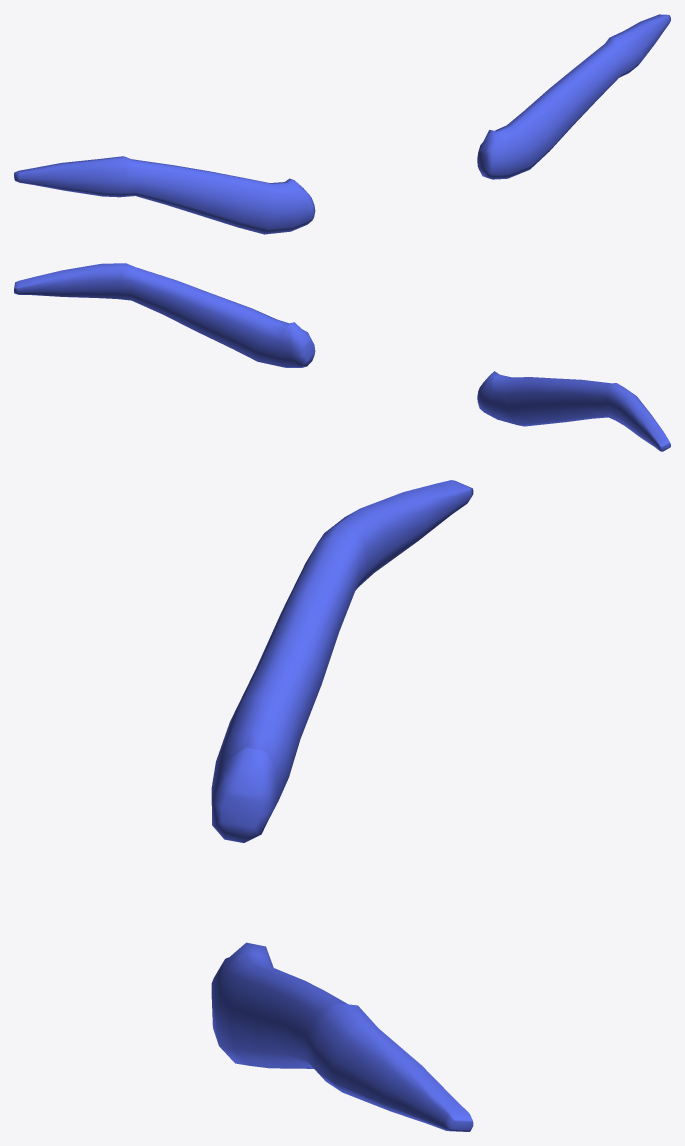
File: Eyebrows_16_03.fbx
3 views of the same model, one above another, from view 1: azimuth 30°, elevation 25°; view 2: azimuth 150°, elevation 25°; view 3: azimuth 270°, elevation 25° (orthographic). The views are drawn at different scales.
Visible parts, largest first — view 1: Eyebrows_16_03; view 2: Eyebrows_16_03; view 3: Eyebrows_16_03.
Part boxes in pixels (<box>): Eyebrows_16_03: <box>14,14,670,234</box>; Eyebrows_16_03: <box>14,263,670,451</box>; Eyebrows_16_03: <box>211,480,473,1131</box>.
Size of the model in its own units: 18.79 by 2.42 by 3.25.
